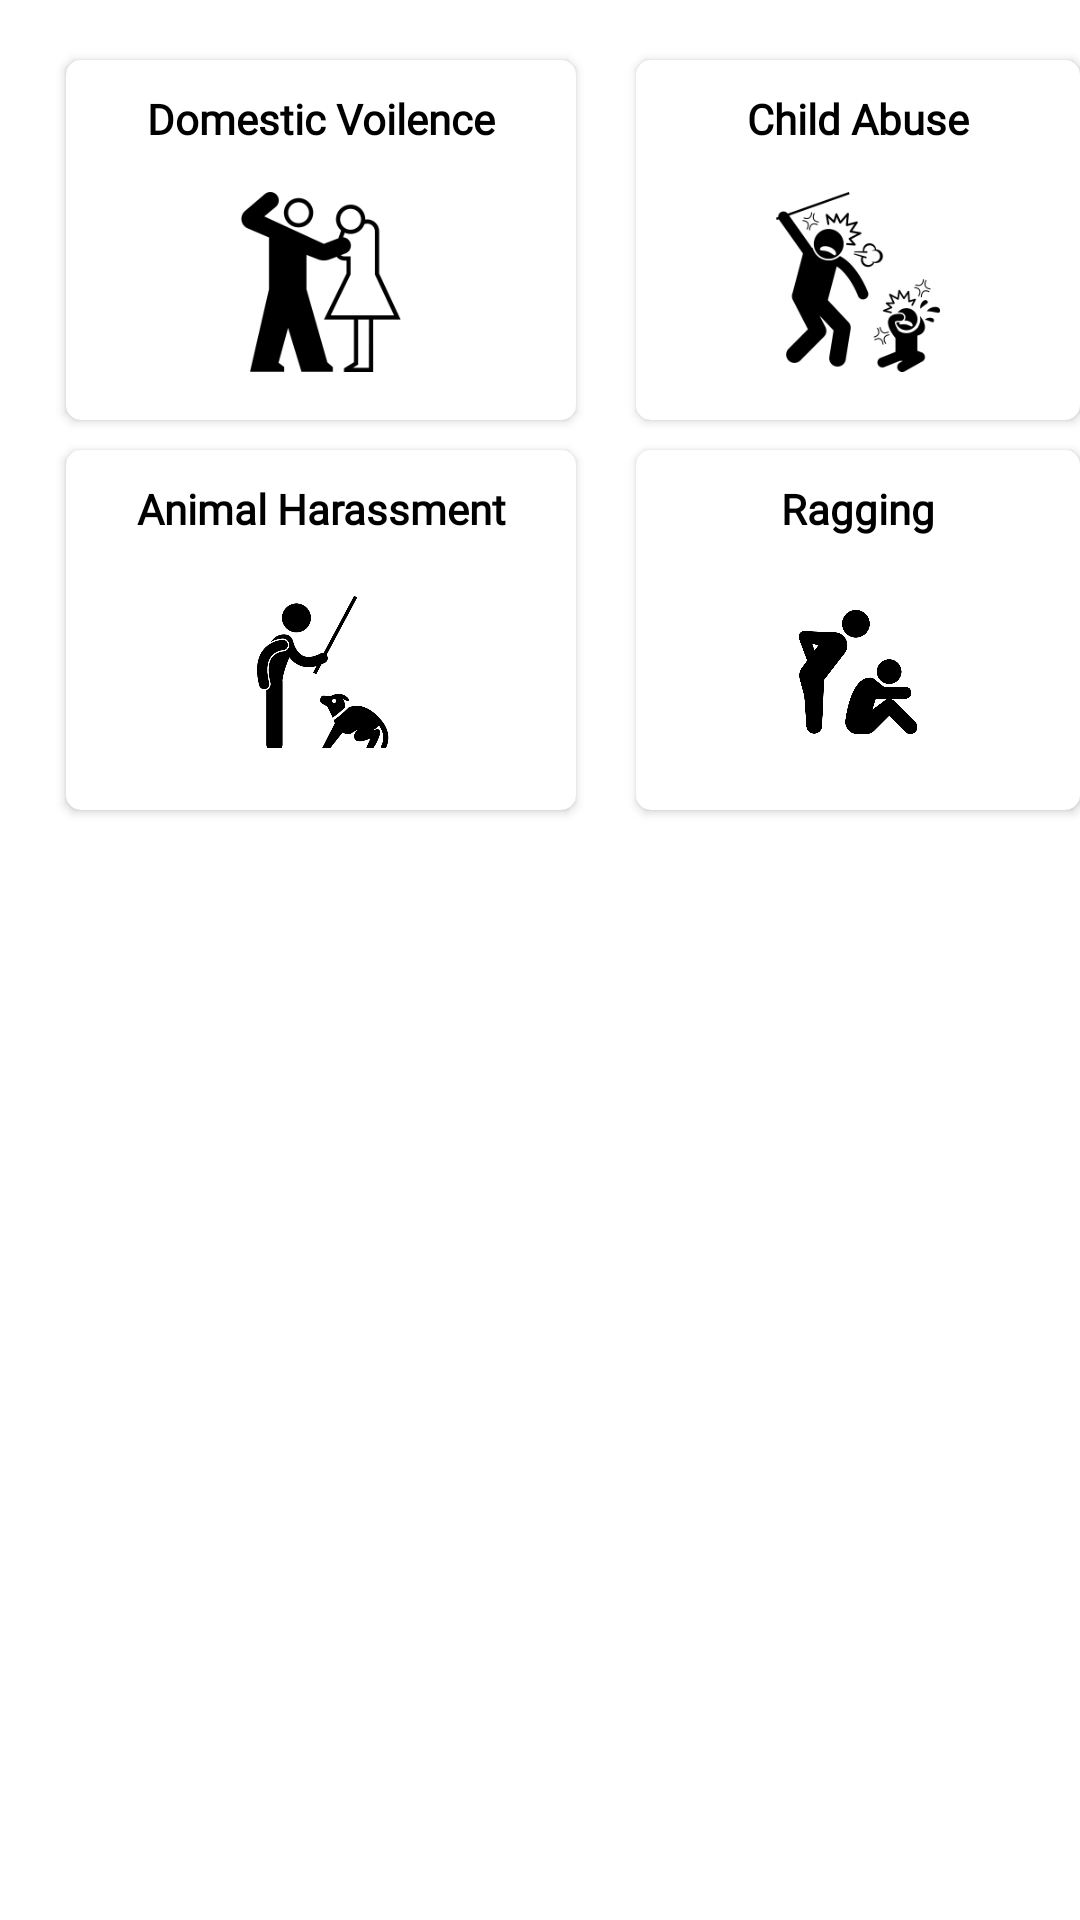

Where to tap for icons on this 1080 × 1920 app screen, as [x,y]:
animal harras: [323,672]
